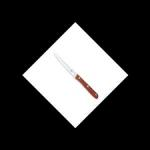Pisau: (54, 49, 100, 99)
